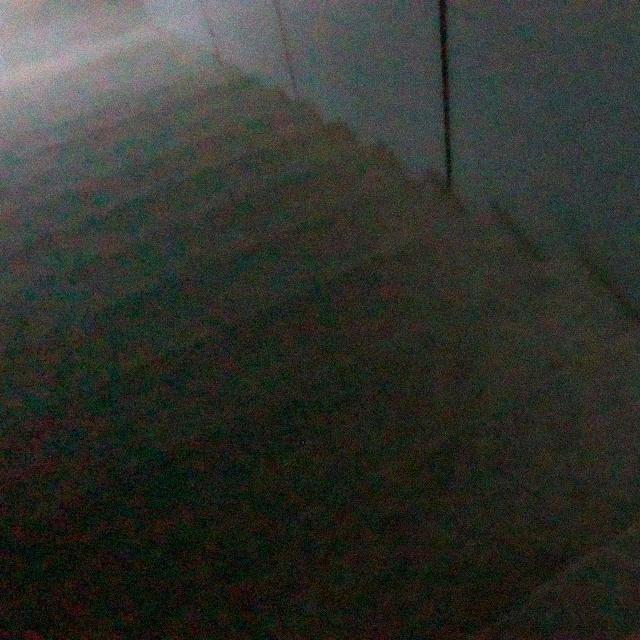stair: (22, 29, 640, 613)
